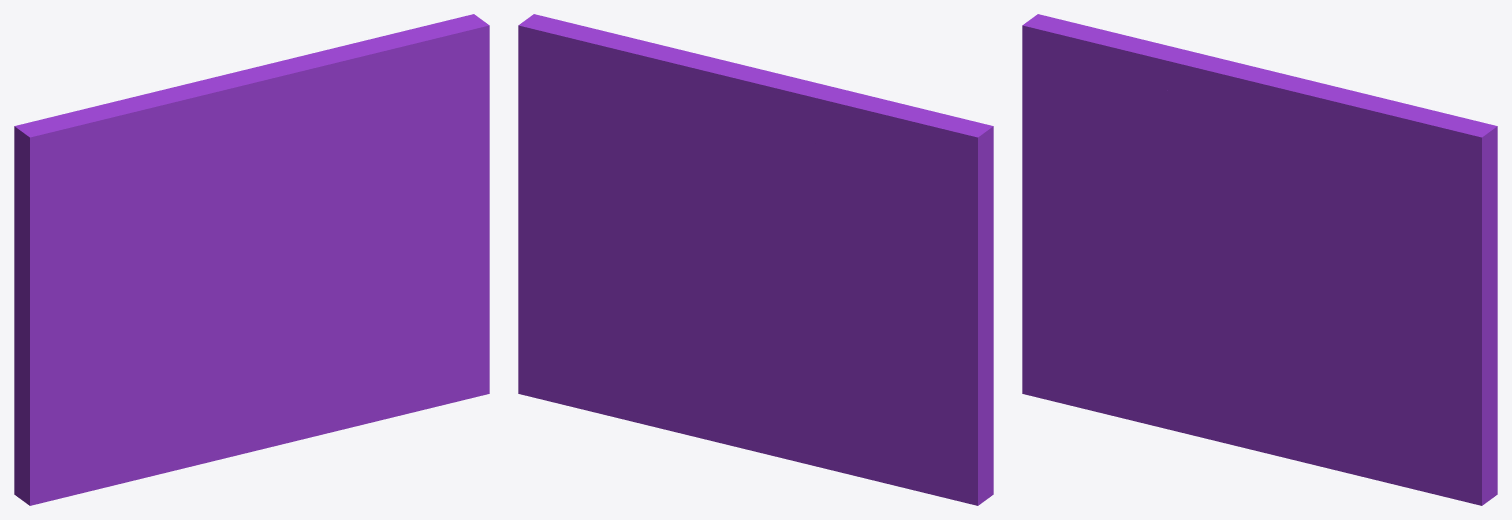
The model's file is Barrier_205_chunks.fbx.
3 renders of one model, left to right at view 1: azimuth 30°, elevation 25°; view 2: azimuth 150°, elevation 25°; view 3: azimuth 330°, elevation 25°, orthographic.
Parts seen in each view (by area): view 1: Barrier_205_2, Barrier_205_3, Barrier_205_1, Barrier_205_0; view 2: Barrier_205_2, Barrier_205_3, Barrier_205_1, Barrier_205_0; view 3: Barrier_205_2, Barrier_205_3, Barrier_205_1, Barrier_205_0.
Boxes of the visible parts, bbox=[...] form: Barrier_205_2: bbox=[14, 92, 253, 505]; Barrier_205_3: bbox=[153, 14, 489, 263]; Barrier_205_1: bbox=[126, 248, 489, 482]; Barrier_205_0: bbox=[389, 222, 489, 266]; Barrier_205_2: bbox=[752, 94, 993, 505]; Barrier_205_3: bbox=[518, 14, 863, 250]; Barrier_205_1: bbox=[518, 304, 864, 478]; Barrier_205_0: bbox=[518, 189, 763, 349]; Barrier_205_2: bbox=[1022, 14, 1245, 416]; Barrier_205_3: bbox=[1152, 48, 1497, 333]; Barrier_205_1: bbox=[1118, 261, 1497, 505]; Barrier_205_0: bbox=[1381, 290, 1497, 449].
Size of the model in its own units: 376 by 288 by 22.1.
